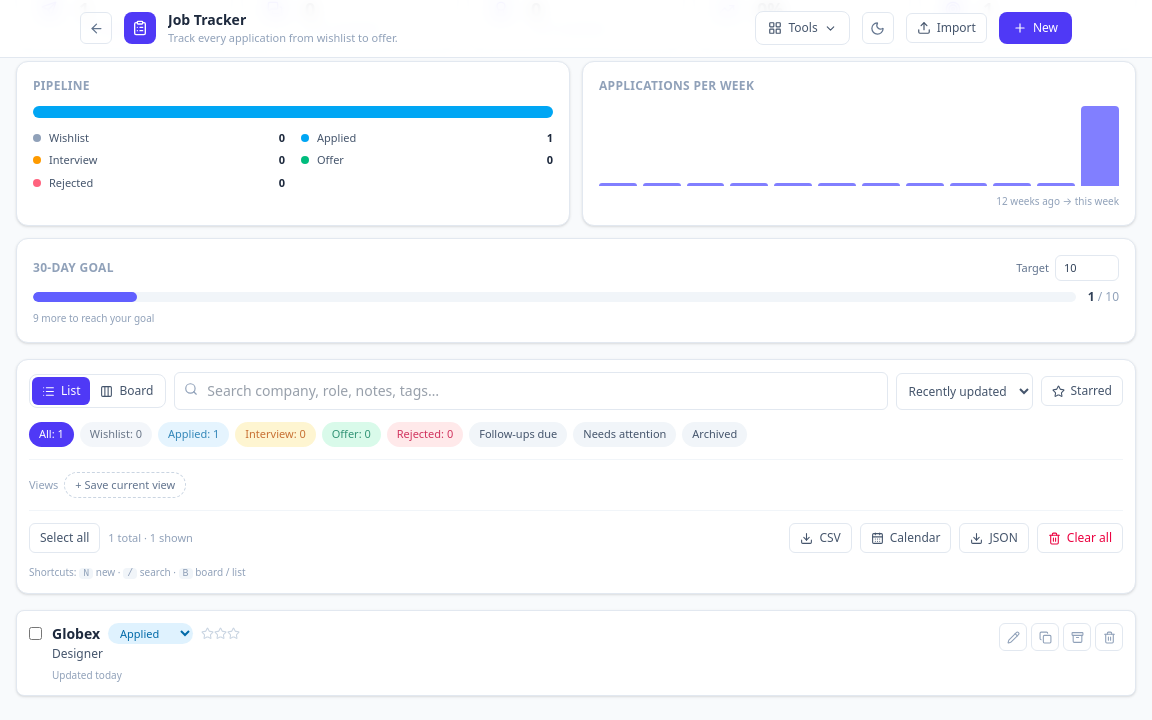
Test: JobTrackerApp › archives an application and hides it until archived are shown
The image size is (1152, 720).
(page scrolled)
Click the button named "Archive". click: click(1077, 637)
box: x1=1063 y1=623 x2=1091 y2=651
(page scrolled)
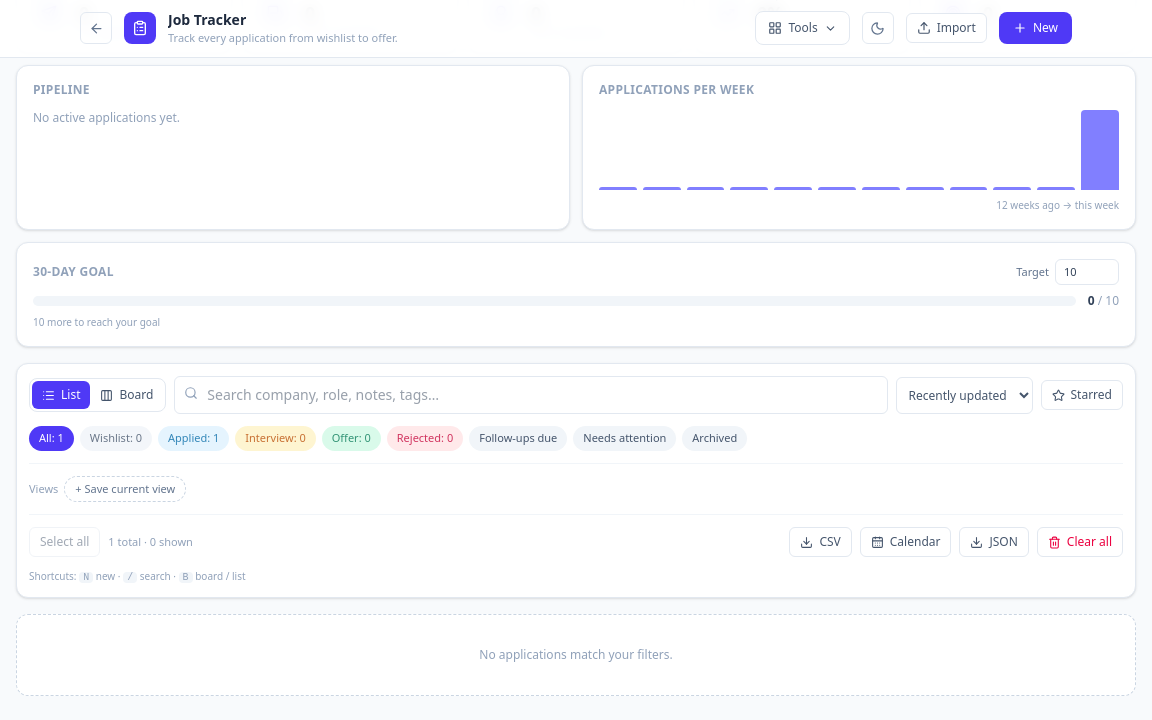
Click the button "Archived". click: click(715, 438)
box: x1=682 y1=426 x2=747 y2=450
(page scrolled)
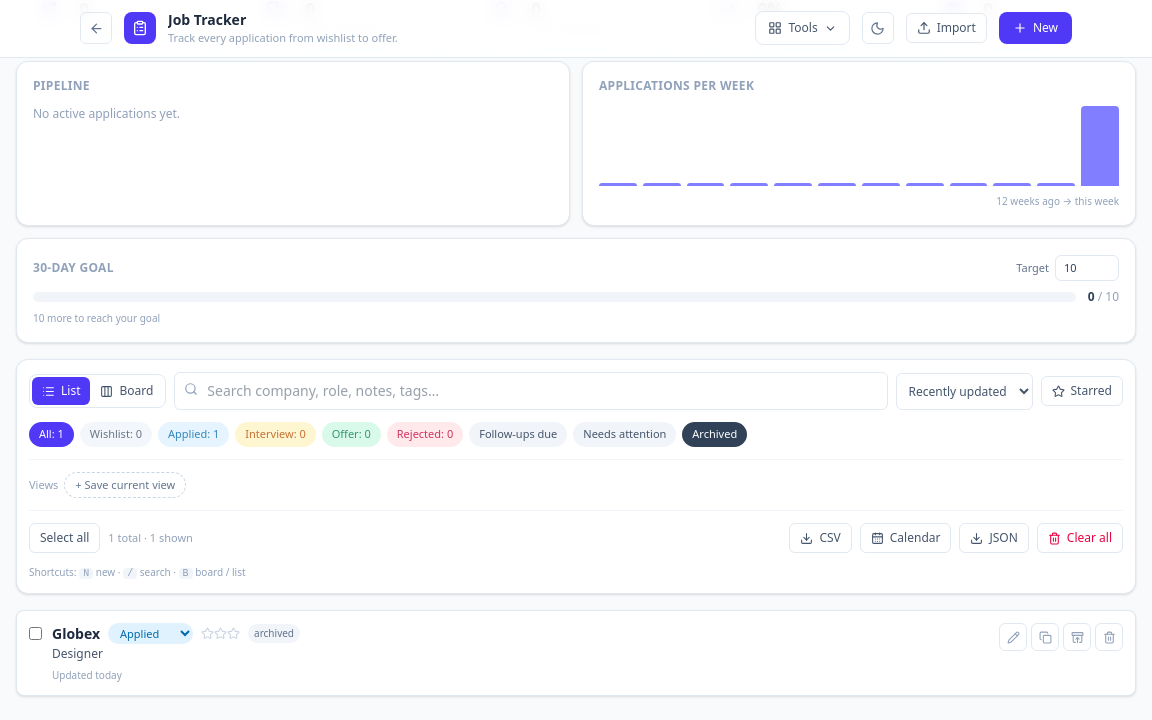
Check: the dropdown named "Status for Globex" is shown, box x1=108 y1=623 x2=193 y2=644
